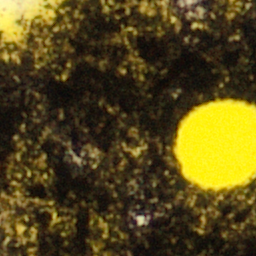air_pores: (173, 99, 255, 193)
cement_matrix: (0, 0, 255, 255), (140, 217, 144, 222)
cracks: (0, 0, 63, 44), (161, 0, 168, 1)
gravel_crushed_stones: (0, 0, 33, 11), (180, 0, 195, 5), (0, 214, 3, 222), (141, 218, 143, 221)
